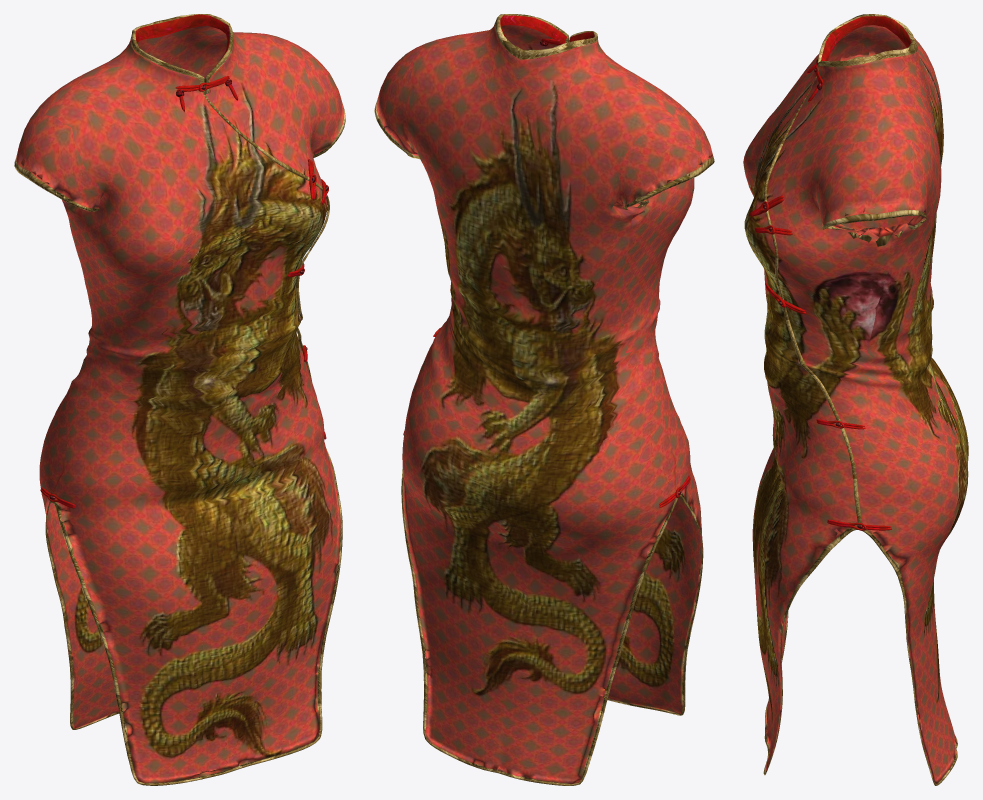
The model's file is elvs-fashion-stylized-qipoa.glb.
3 views of the same model, side by side, from view 1: azimuth 30°, elevation 25°; view 2: azimuth 150°, elevation 25°; view 3: azimuth 270°, elevation 25° (orthographic).
Parts seen in each view (by area): view 1: Human.elvs_fashion_stylized_qipoa; view 2: Human.elvs_fashion_stylized_qipoa; view 3: Human.elvs_fashion_stylized_qipoa.
Part boxes in pixels (bbox=[...]): Human.elvs_fashion_stylized_qipoa: bbox=[14, 14, 345, 785]; Human.elvs_fashion_stylized_qipoa: bbox=[374, 14, 714, 785]; Human.elvs_fashion_stylized_qipoa: bbox=[743, 14, 968, 785].
Size of the model in its own units: 0.4502 by 0.9716 by 0.2764.
1 material, 1 textured.
